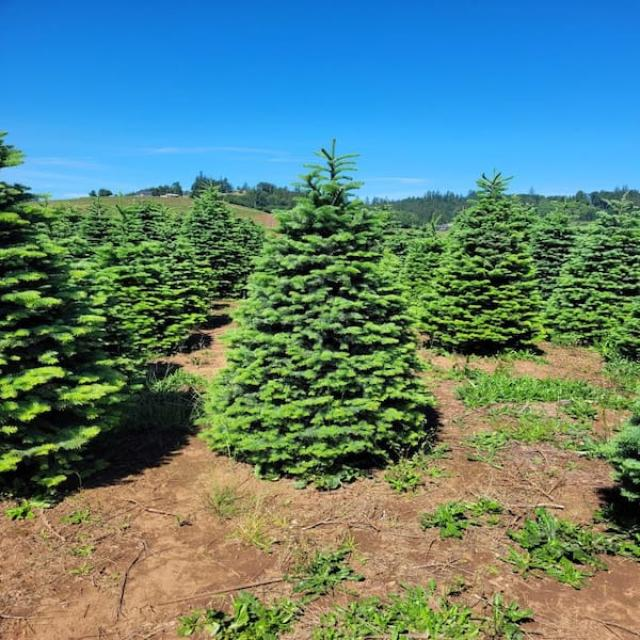Abies: (212, 143, 448, 473), (0, 138, 152, 486), (423, 165, 548, 360)
